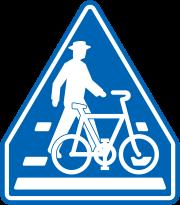Cycle Crossing: (11, 11, 168, 195)
